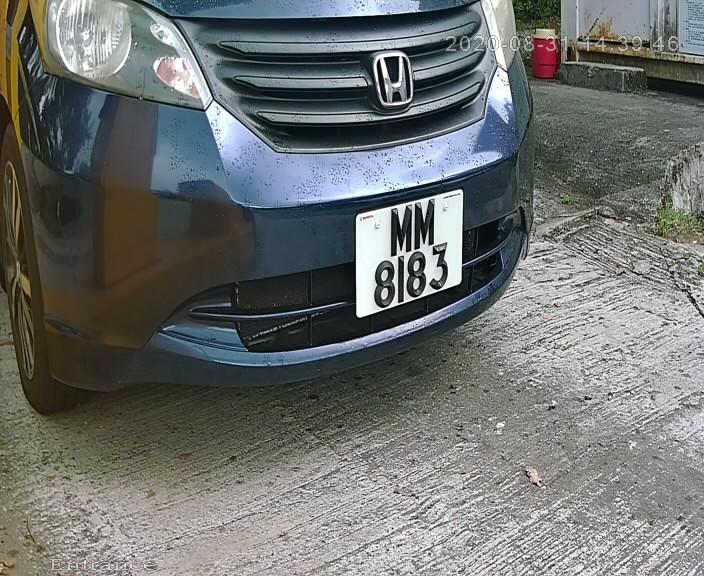Car: (13, 1, 566, 445)
License Plate: (349, 186, 472, 322)
